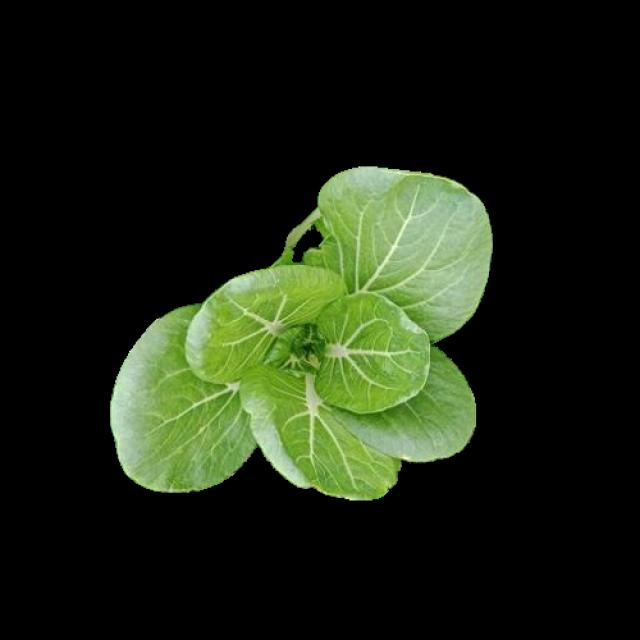mature: (117, 169, 490, 490)
unhealthy: (280, 170, 488, 343)
